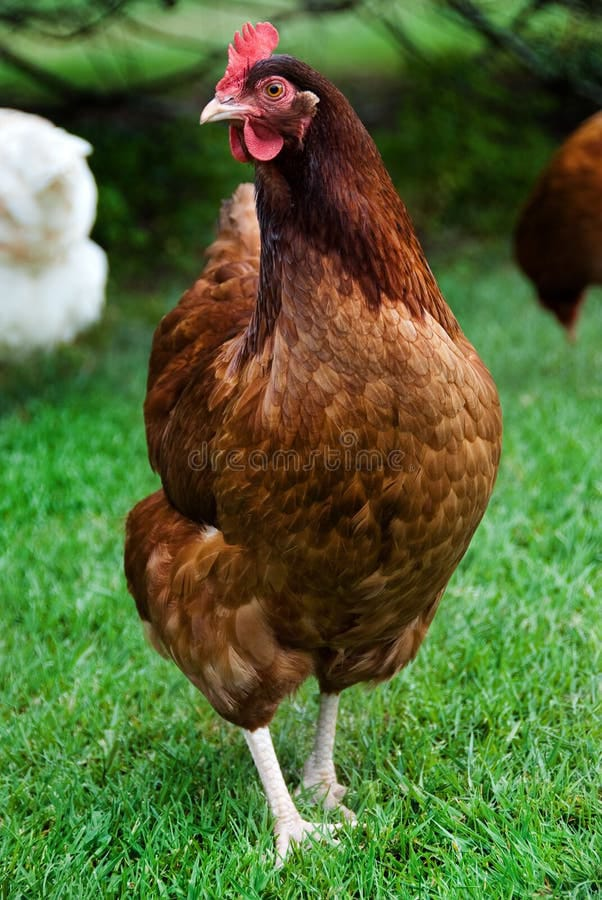Healthy: (113, 18, 496, 859)
